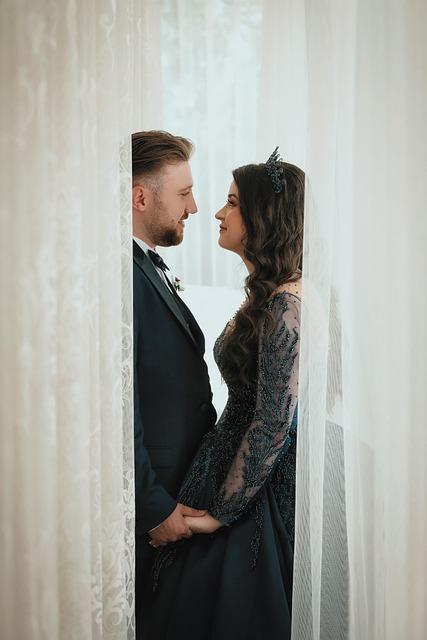Non_Gorille: (22, 5, 416, 640)
